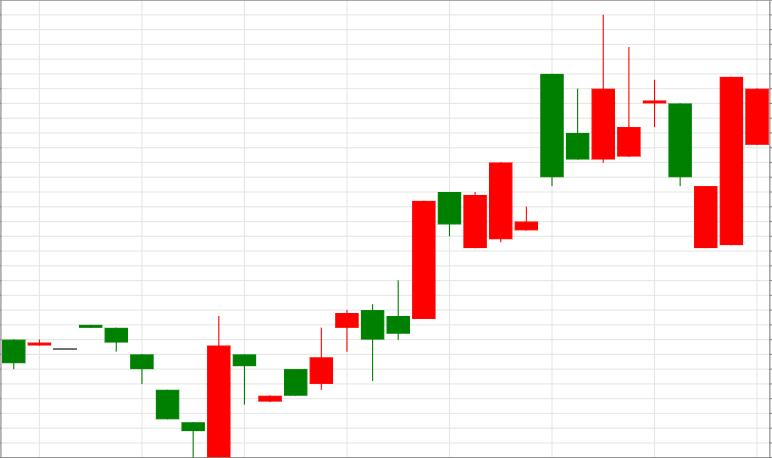bullish_engulfing_rise: (80, 316, 230, 458)
